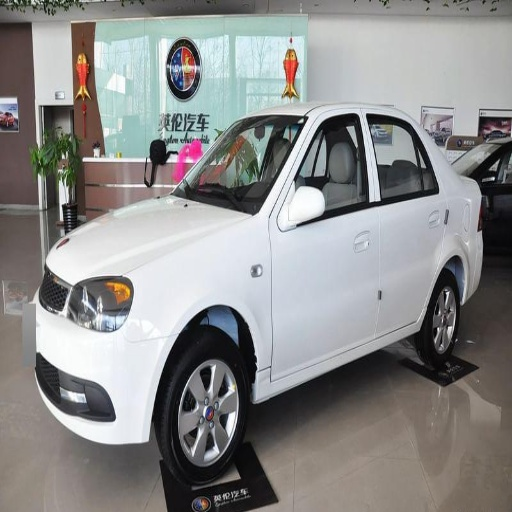front_bumper: (36, 307, 172, 442)
front_glass: (174, 116, 306, 211)
front_left_door: (272, 113, 379, 383)
